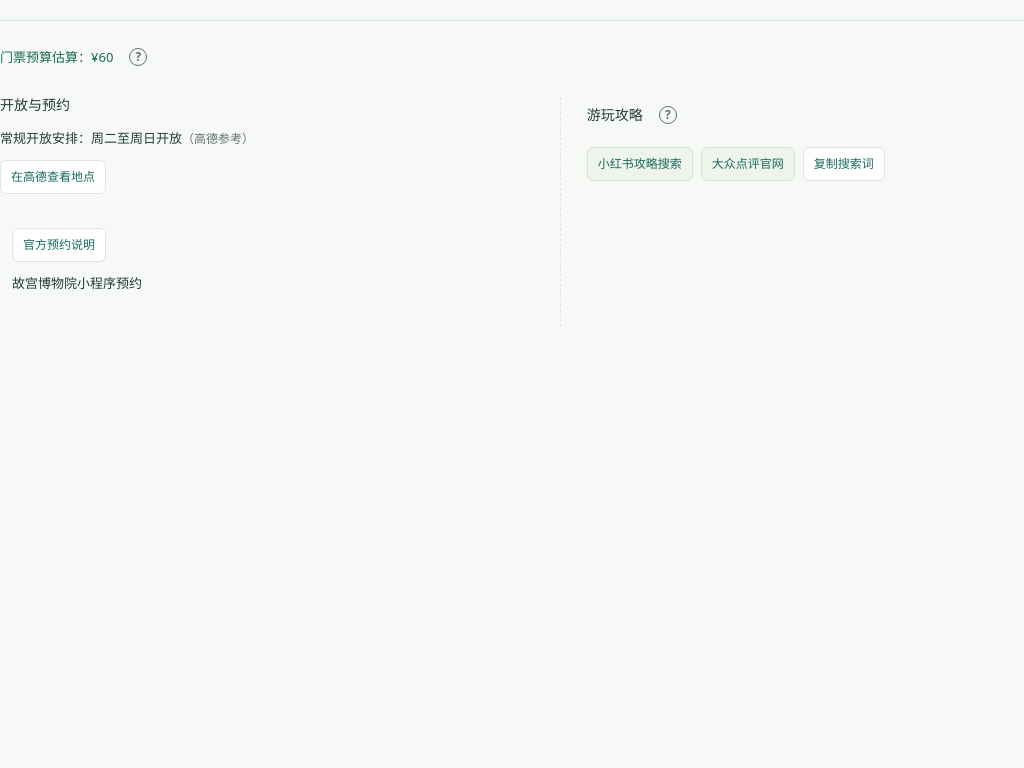
Scenario: keeps opening scope and reservation details visible, while source and verification dates are behind the ticket hint
This screenshot has width=1024, height=768.
Expected: the text "查询时间：" is not shown
Expected: the text "人工核验日期：" is not shown
Click the button "?" next to "¥60". click: (138, 57)
box: [120, 39, 156, 75]
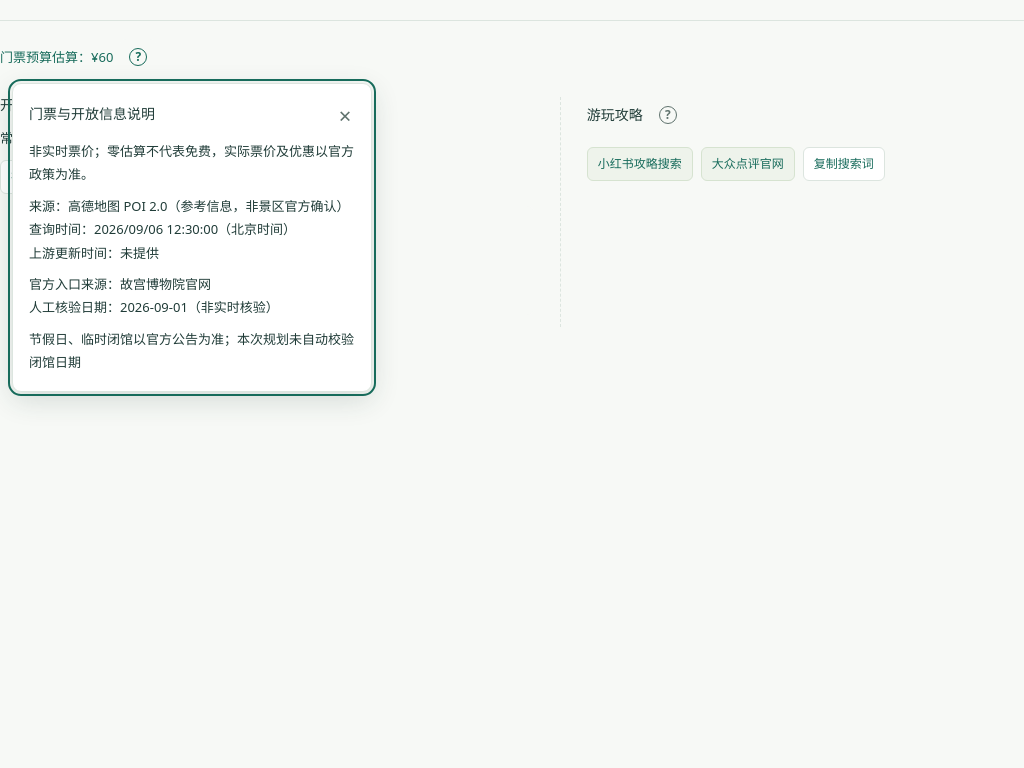
Expected: the dialog with class "info-hint-panel" shows "高德地图 POI 2.0（参考信息，非景区官方确认）", [29, 197, 350, 215]
Expected: the dialog with class "info-hint-panel" shows "查询时间：2026/09/06 12:30:00（北京时间）", [29, 220, 296, 238]
Expected: the dialog with class "info-hint-panel" shows "官方入口来源：故宫博物院官网", [29, 275, 211, 293]
